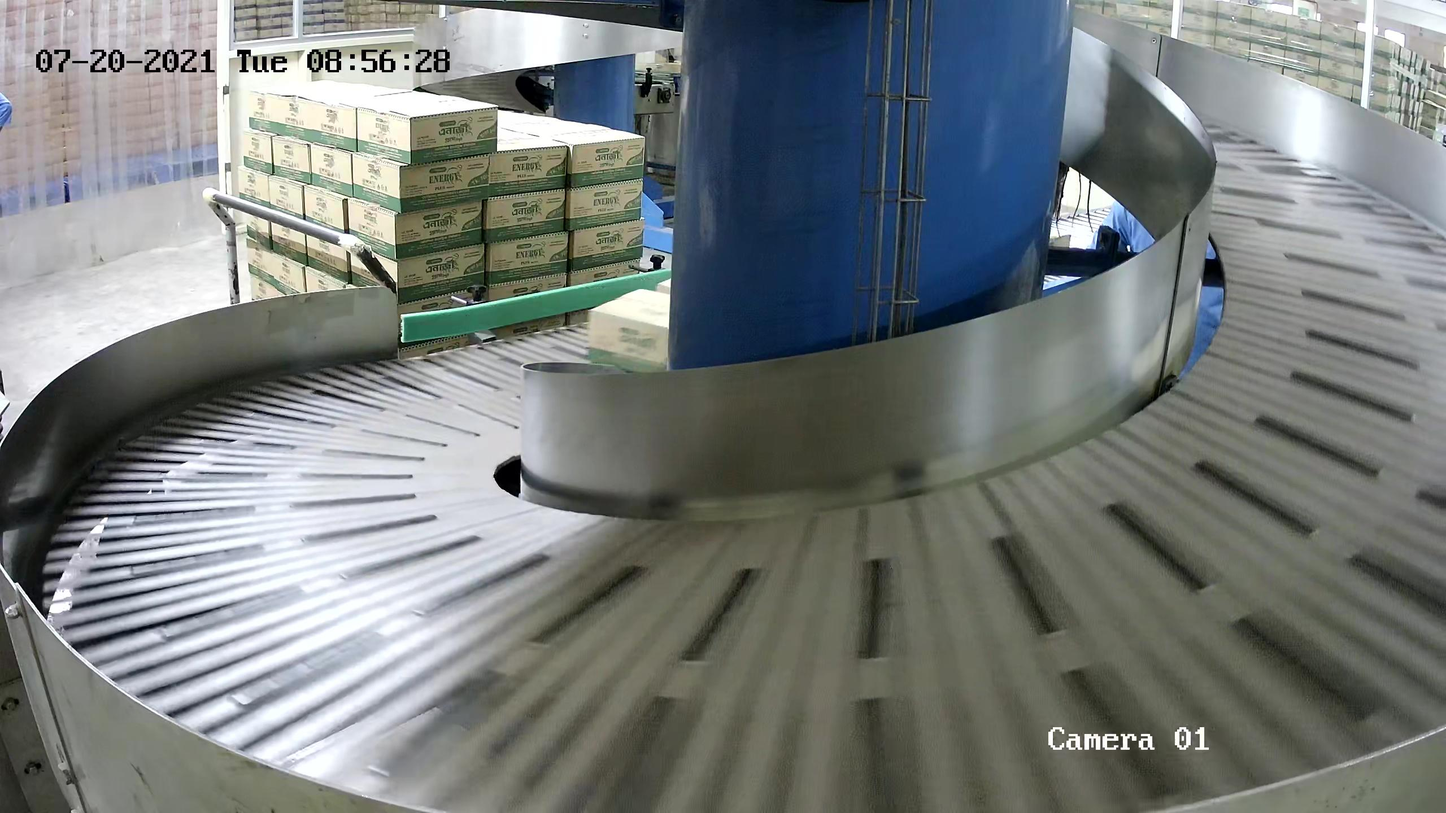Box: (586, 288, 670, 376)
